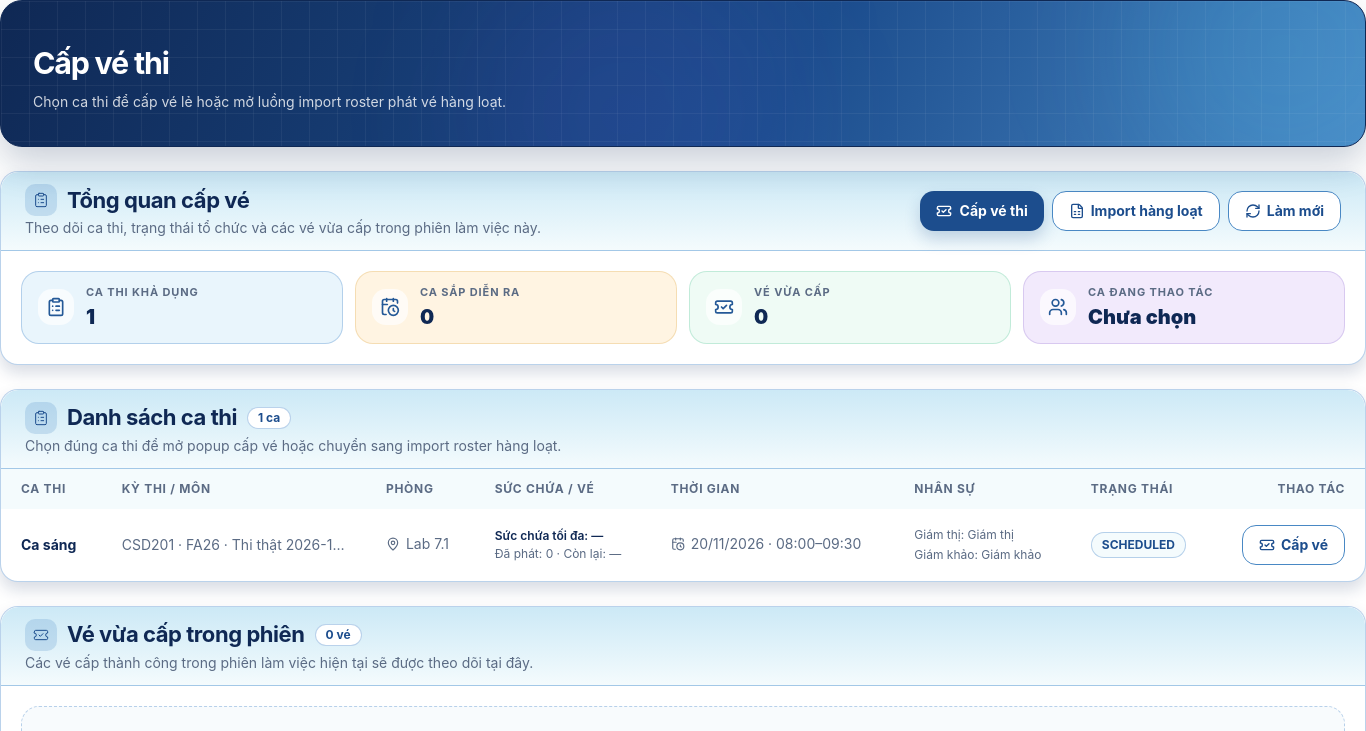
Scenario: ExaminationOfficerTicketAssignmentPage › opens bulk import in the same centered dialog with the selected shift
Step 1. Click the button "Import hàng loạt" → (1136,211), box [1052, 191, 1220, 231]
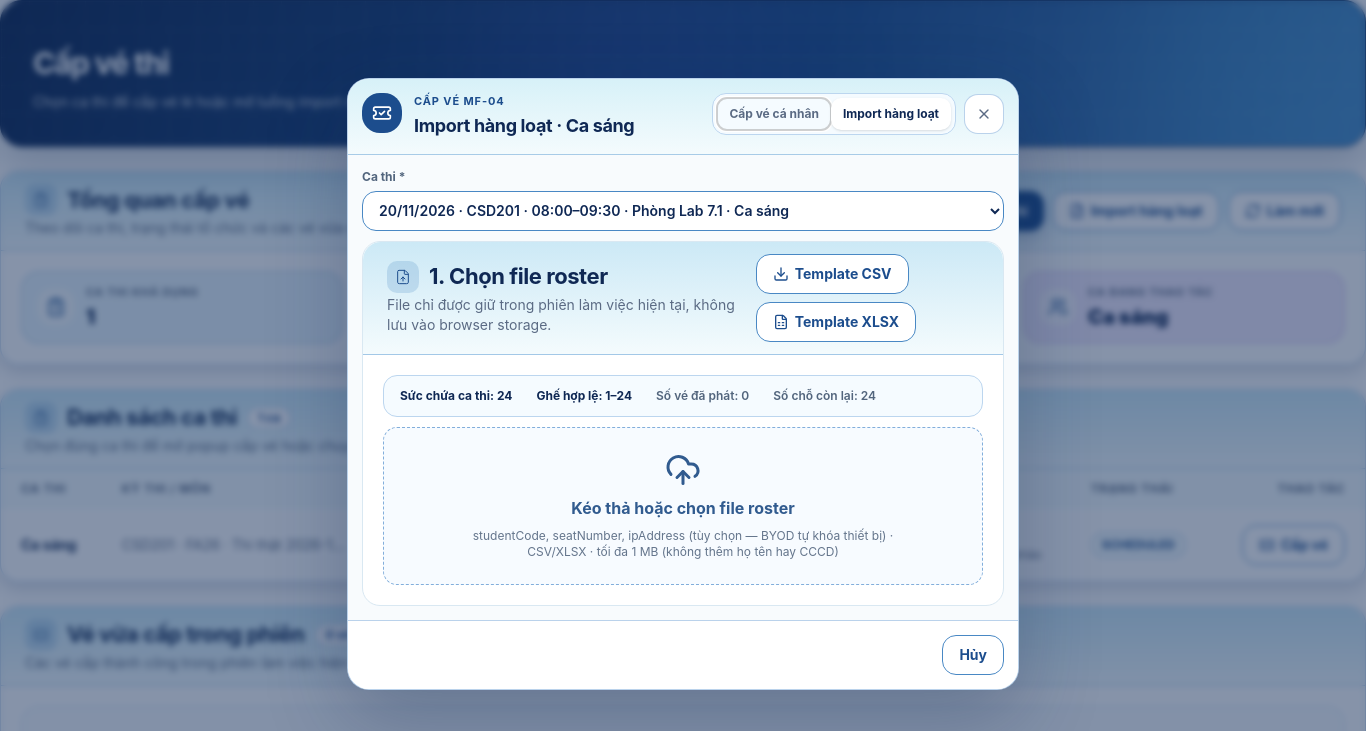
Expected: the dialog is shown, [347, 78, 1019, 690]
Expected: the file field labelled "chọn file roster" is shown, [459, 452, 907, 560]
Expected: the dropdown labelled "Ca thi *" shows "20/11/2026 · CSD201 · 08:00–09:30 · Phòng Lab 7.1 · Ca sáng", [362, 191, 1004, 231]
